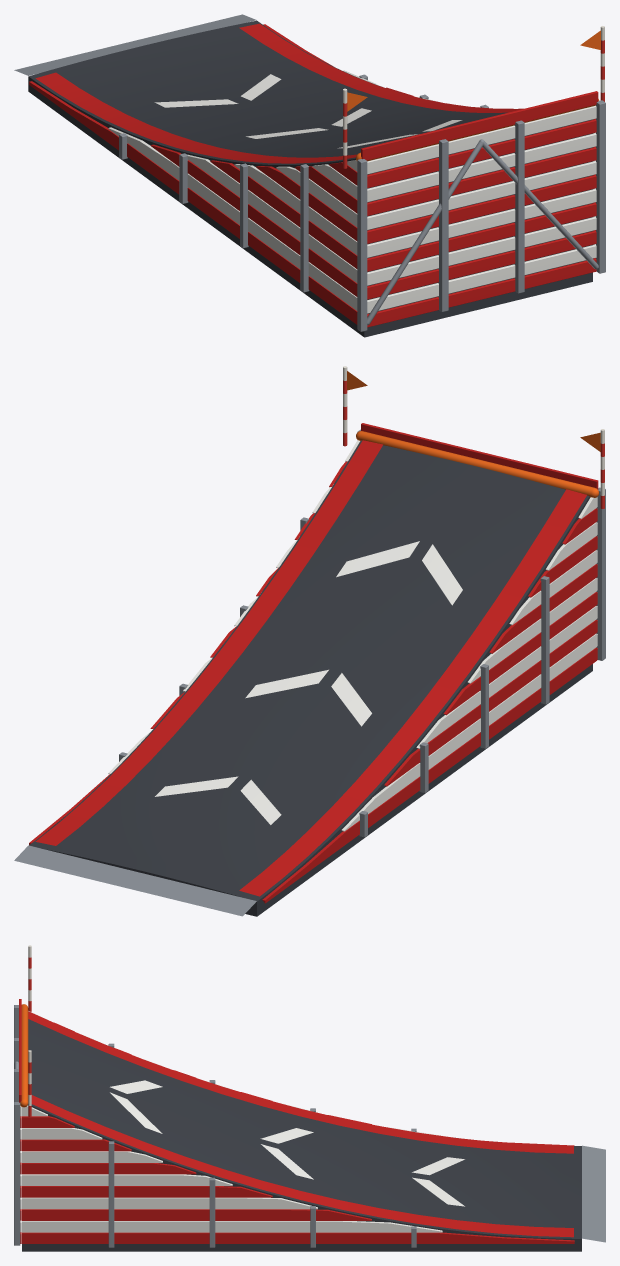
File: yol-rampa-uzun.glb
3 views of the same model, one above another, from view 1: azimuth 30°, elevation 25°; view 2: azimuth 150°, elevation 25°; view 3: azimuth 270°, elevation 25° (orthographic). The views are drawn at different scales.
Visible parts, largest first — view 1: sac-rampa, kirmizi-ikaz, beyaz-ikaz, celik-dikme, kirmizi-boya, beyaz-boya, turuncu-rampa; view 2: sac-rampa, kirmizi-boya, kirmizi-ikaz, beyaz-ikaz, celik-dikme, beyaz-boya, turuncu-rampa; view 3: sac-rampa, kirmizi-ikaz, beyaz-ikaz, kirmizi-boya, celik-dikme, beyaz-boya, turuncu-rampa.
Part boxes in pixels (left/top/right/bottom): sac-rampa: left=28, top=20, right=592, bottom=337; kirmizi-ikaz: left=29, top=24, right=598, bottom=327; beyaz-ikaz: left=108, top=70, right=596, bottom=313; celik-dikme: left=14, top=14, right=605, bottom=331; kirmizi-boya: left=35, top=23, right=523, bottom=163; beyaz-boya: left=154, top=74, right=462, bottom=148; turuncu-rampa: left=347, top=30, right=600, bottom=161; sac-rampa: left=29, top=440, right=592, bottom=916; kirmizi-boya: left=35, top=440, right=586, bottom=896; kirmizi-ikaz: left=29, top=423, right=598, bottom=903; beyaz-ikaz: left=108, top=440, right=597, bottom=831; celik-dikme: left=14, top=429, right=605, bottom=916; beyaz-boya: left=155, top=541, right=462, bottom=824; turuncu-rampa: left=347, top=371, right=600, bottom=497; sac-rampa: left=22, top=1019, right=581, bottom=1251; kirmizi-ikaz: left=19, top=999, right=574, bottom=1243; beyaz-ikaz: left=20, top=1011, right=442, bottom=1232; kirmizi-boya: left=28, top=1011, right=573, bottom=1237; celik-dikme: left=14, top=1005, right=605, bottom=1247; beyaz-boya: left=110, top=1080, right=464, bottom=1206; turuncu-rampa: left=20, top=1004, right=28, bottom=1107.
Bounding box in the file's own units: 6.29 × 5.7 × 14.8.
